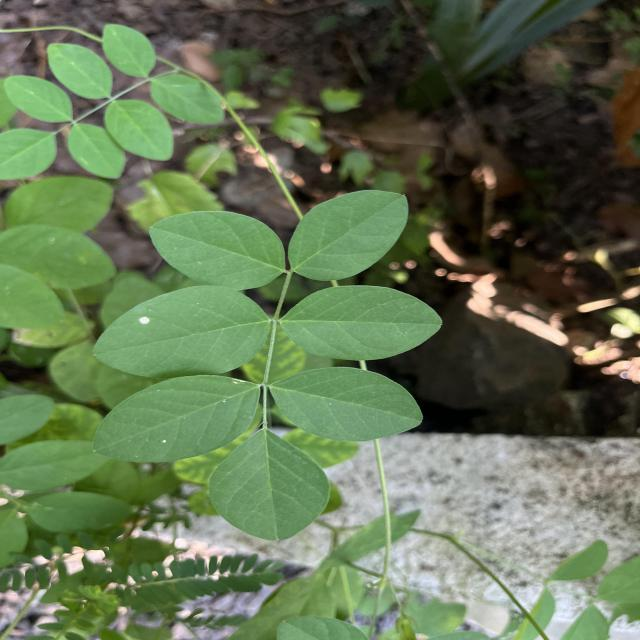Clitoria ternatea: (92, 284, 270, 382), (90, 374, 262, 464), (206, 426, 332, 542), (280, 284, 444, 362), (270, 366, 426, 444), (284, 188, 410, 283), (148, 210, 287, 291)
